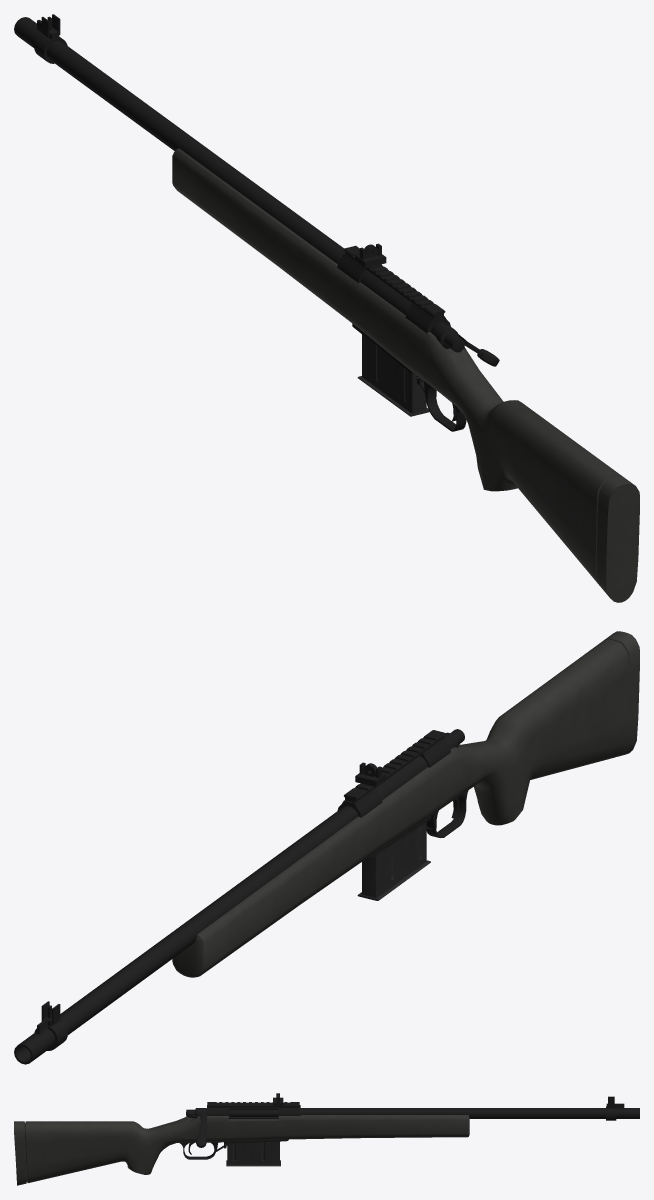
3 renders of one model, top to bottom at view 1: azimuth 30°, elevation 25°; view 2: azimuth 150°, elevation 25°; view 3: azimuth 270°, elevation 25°, orthographic. The views are drawn at different scales.
Parts seen in each view (by area): view 1: M24_Body, Mag, Irons; view 2: M24_Body, Mag, Irons; view 3: M24_Body, Mag, Irons.
Part boxes in pixels (box(x1,y1,x2,y2)): M24_Body: box(14, 17, 639, 602); Mag: box(357, 334, 428, 415); Irons: box(34, 14, 386, 268); M24_Body: box(14, 631, 639, 1064); Mag: box(357, 822, 430, 900); Irons: box(34, 762, 386, 1050); M24_Body: box(14, 1102, 639, 1185); Mag: box(226, 1141, 280, 1166); Irons: box(273, 1093, 616, 1120).
Size of the model in its own units: 0.0729 by 0.1735 by 1.09.
Materials: 5 (3 with a texture image).
